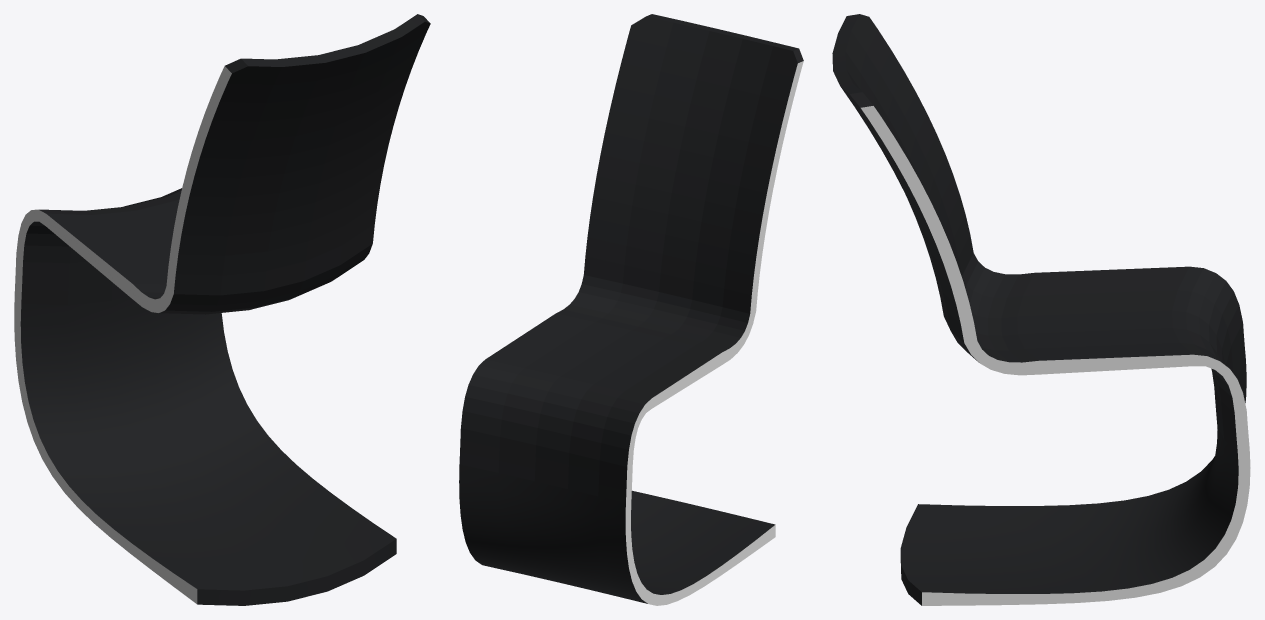
Rendered from Interior_Chair.FBX.
3 renders of one model, left to right at view 1: azimuth 30°, elevation 25°; view 2: azimuth 150°, elevation 25°; view 3: azimuth 270°, elevation 25°, orthographic. The views are drawn at different scales.
Visible parts, largest first — view 1: krzeslo; view 2: krzeslo; view 3: krzeslo.
Boxes of the visible parts, box(x1,y1,x2,y2) form: krzeslo: box(14, 14, 430, 605); krzeslo: box(459, 14, 803, 605); krzeslo: box(832, 14, 1250, 605).
Bounding box in the file's own units: 29.18 × 79.93 × 58.54.
1 material, 1 textured.
